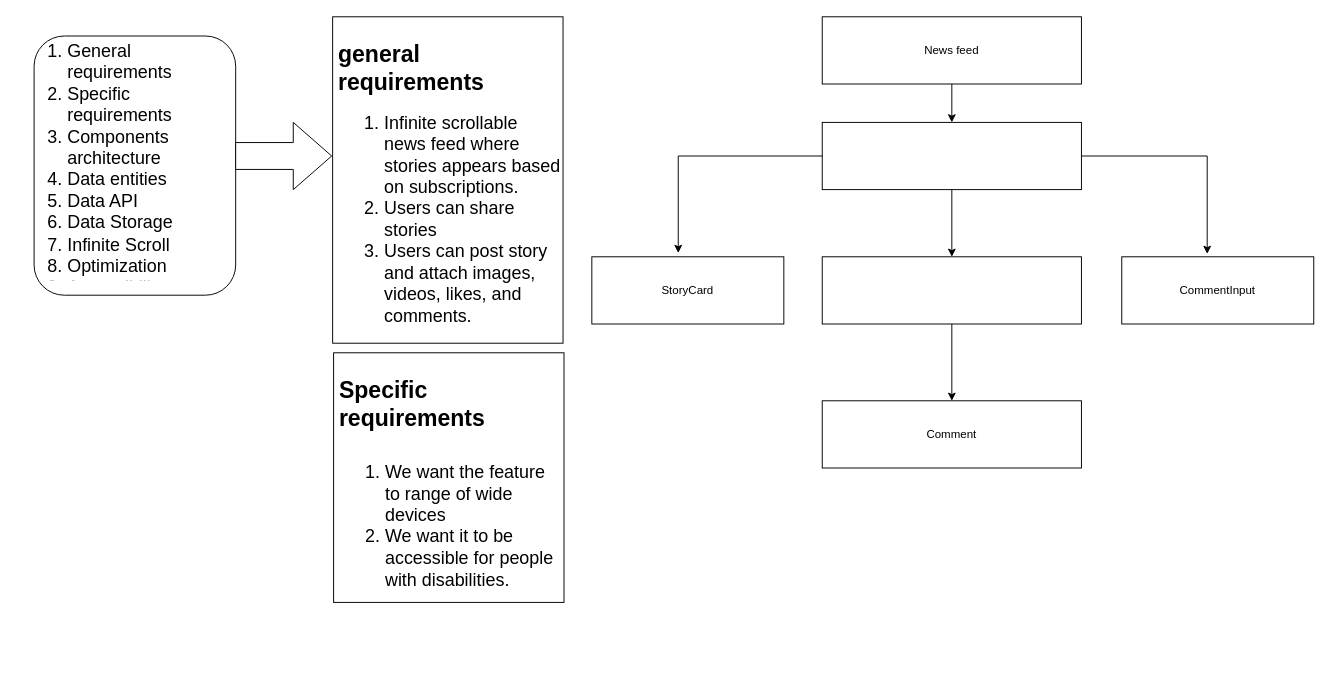
Some shapes in this 1331 by 696 pixel diagram are drawn without their labels. The box of each missing label's shape, as (x1, y1, x2, y2) in pixels:
Comment List: (821, 256, 1081, 324)
Story: (821, 121, 1081, 190)
